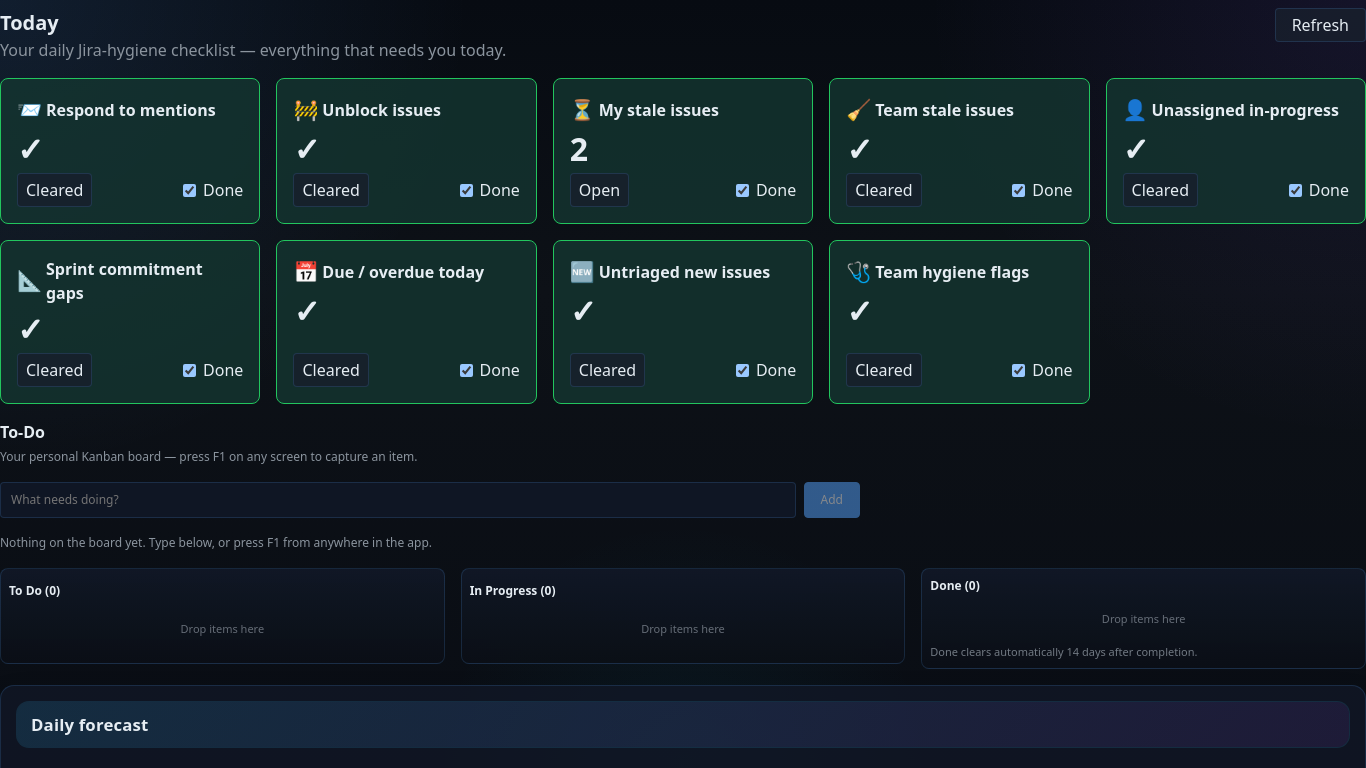
TodayDashboard › carries the destination scope params on drill-through, so the target answers what the card counted (GH #167)
The image size is (1366, 768).
Click the button "Open" at (599,190), box [570, 173, 629, 207]
(page scrolled)
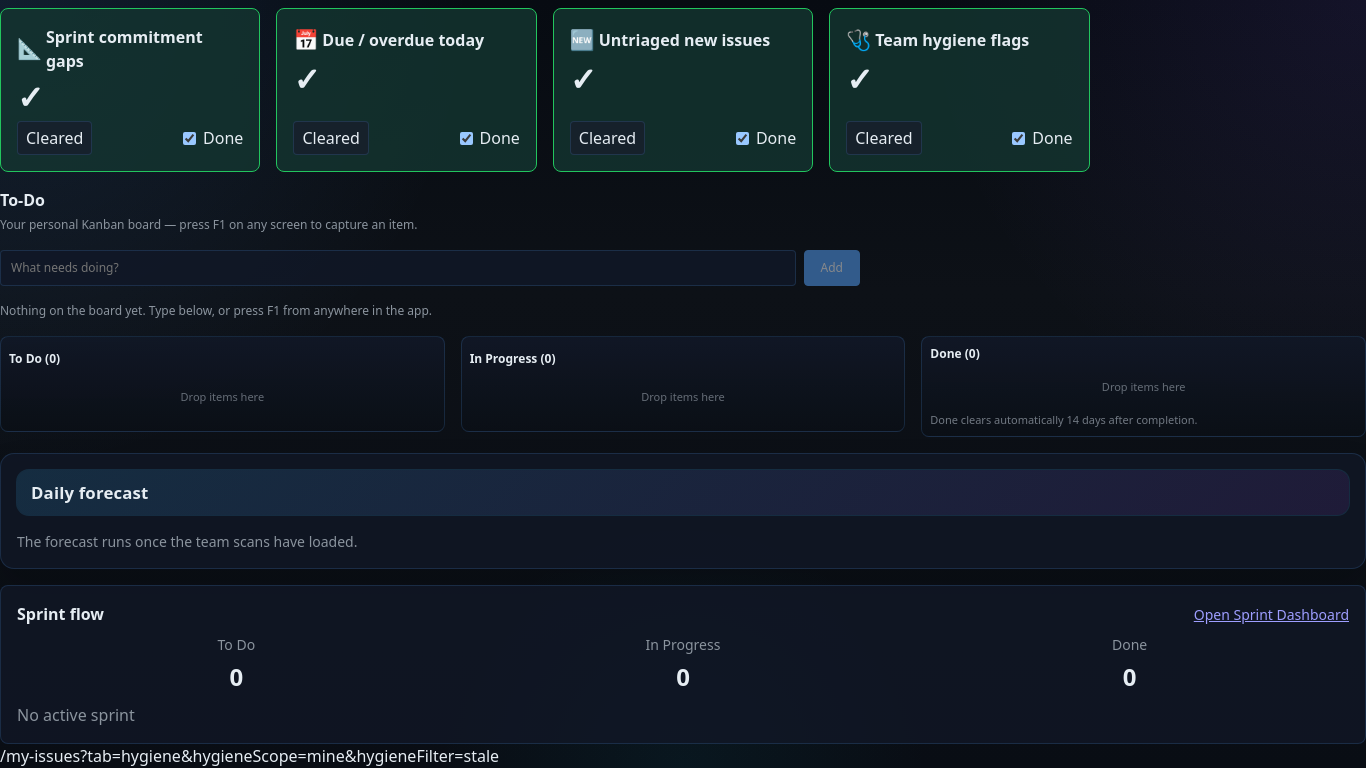
expect the text with test id "location-probe" reads "/my-issues?tab=hygiene&hygieneScope=mine&hygieneFilter=stale": met, box [0, 745, 499, 767]
